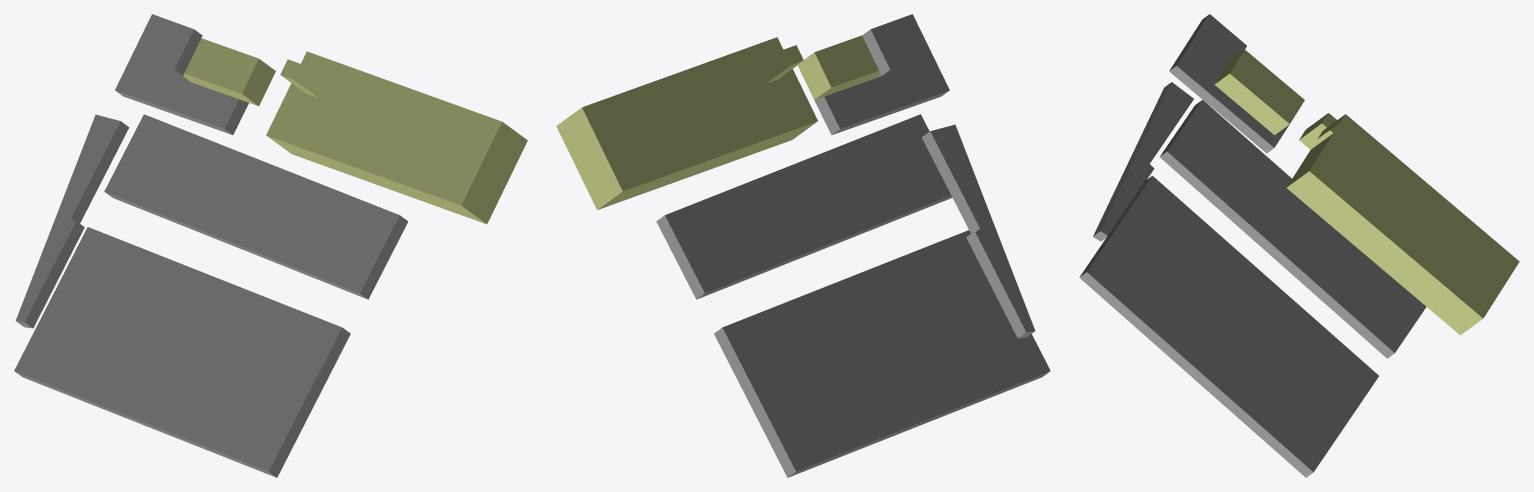
3 renders of one model, left to right at view 1: azimuth 30°, elevation 25°; view 2: azimuth 150°, elevation 25°; view 3: azimuth 330°, elevation 25°, orthographic. The views are drawn at different scales.
Parts seen in each view (by area): view 1: 0_1_0_0_0_1_3_1; view 2: 0_1_0_0_0_1_3_1; view 3: 0_1_0_0_0_1_3_1.
Boxes of the visible parts, box(x1,y1,x2,y2) form: 0_1_0_0_0_1_3_1: box(14, 14, 527, 477); 0_1_0_0_0_1_3_1: box(556, 14, 1050, 477); 0_1_0_0_0_1_3_1: box(1079, 14, 1519, 477).
Size of the model in its own units: 98.37 by 93.82 by 11.8.
